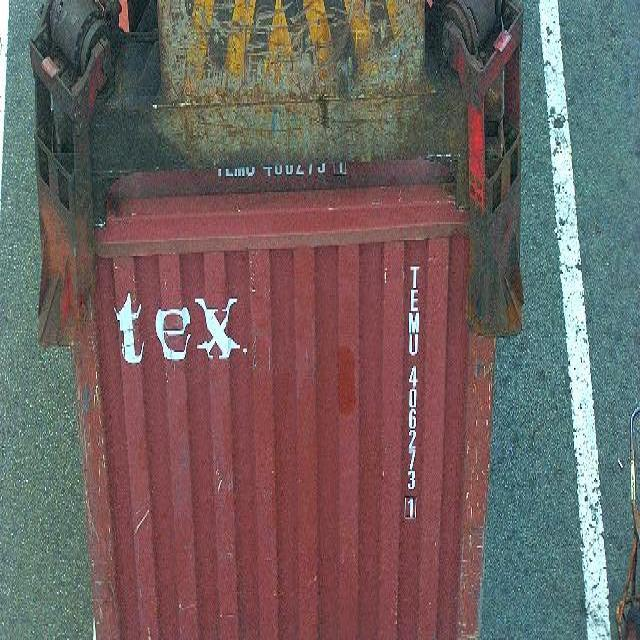container_number: (393, 253, 424, 523)
